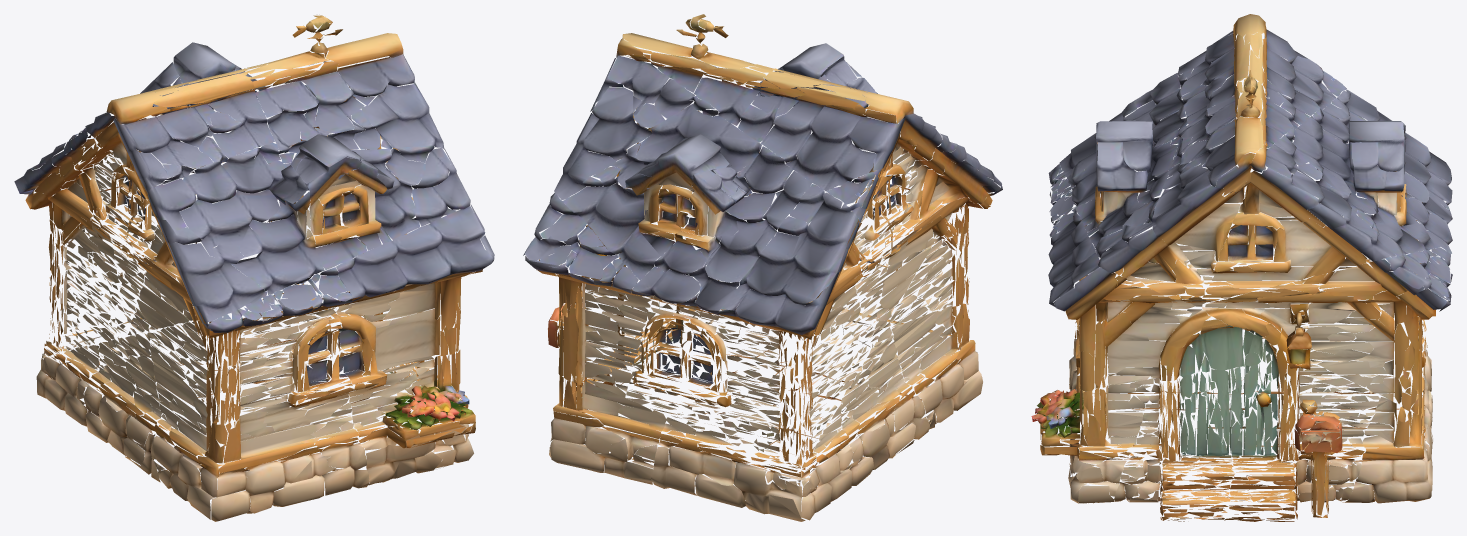
The picture shows the model from 3 angles, left to right: view 1: azimuth 30°, elevation 25°; view 2: azimuth 150°, elevation 25°; view 3: azimuth 270°, elevation 25°; orthographic projection.
Visible parts, largest first — view 1: F23-cliff-cottage; view 2: F23-cliff-cottage; view 3: F23-cliff-cottage.
Boxes of the visible parts, <box> form: F23-cliff-cottage: <box>14,15,494,521</box>; F23-cliff-cottage: <box>523,14,1002,521</box>; F23-cliff-cottage: <box>1031,14,1452,521</box>.
Size of the model in its own units: 3.52 by 4.21 by 4.02.
1 material, 1 textured.
